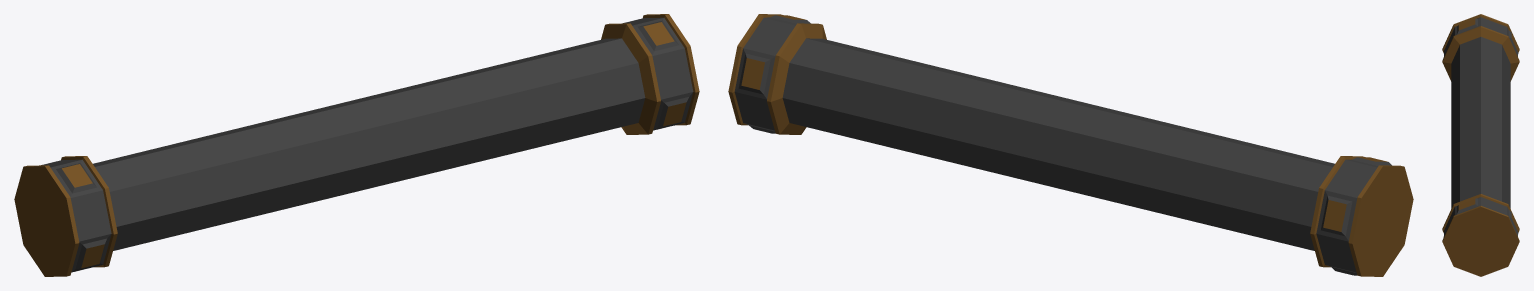
Rendered from pipeDark.fbx.
3 renders of one model, left to right at view 1: azimuth 30°, elevation 25°; view 2: azimuth 150°, elevation 25°; view 3: azimuth 270°, elevation 25°, orthographic. The views are drawn at different scales.
Visible parts, largest first — view 1: Pipe - Dark; view 2: Pipe - Dark; view 3: Pipe - Dark.
Part boxes in pixels (x1=…): Pipe - Dark: x1=14, y1=14, x2=699, y2=276; Pipe - Dark: x1=728, y1=14, x2=1413, y2=276; Pipe - Dark: x1=1442, y1=14, x2=1519, y2=276.
Bounding box in the file's own units: 136 × 23.01 × 23.01.
